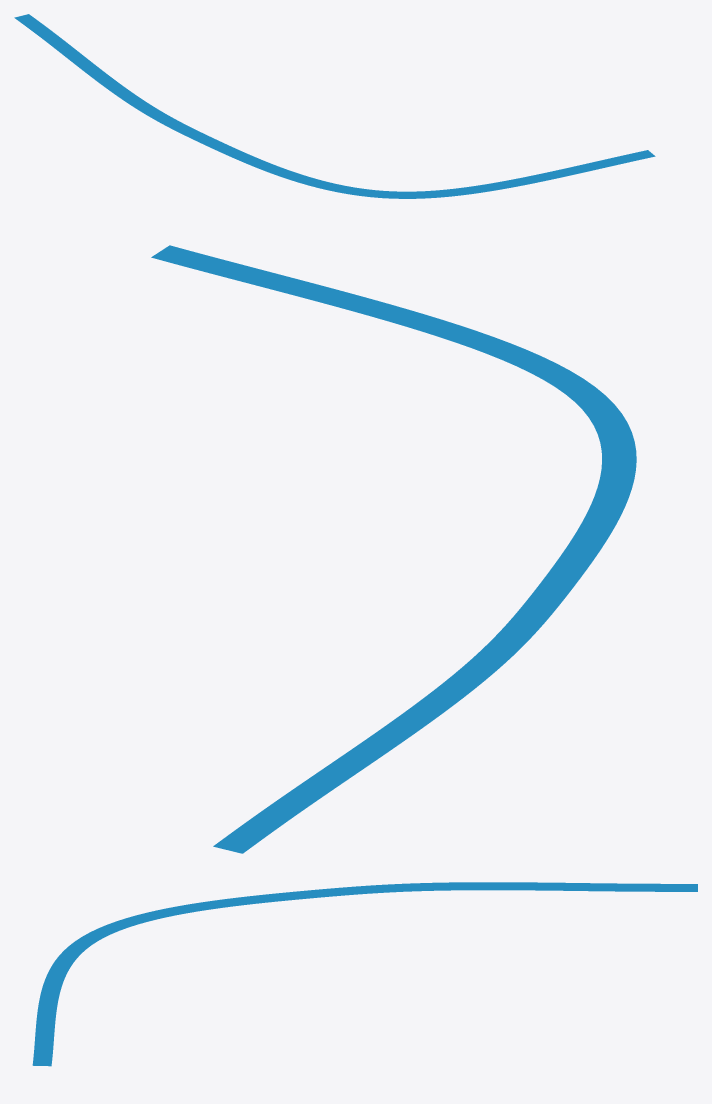
File: guide.glb
3 views of the same model, one above another, from view 1: azimuth 30°, elevation 25°; view 2: azimuth 150°, elevation 25°; view 3: azimuth 270°, elevation 25° (orthographic). The views are drawn at different scales.
Visible parts, largest first — view 1: static; view 2: static; view 3: static.
Part boxes in pixels (x1,y1,x2,y2): static: [14, 14, 655, 198]; static: [151, 245, 636, 853]; static: [32, 882, 697, 1066].
Size of the model in its own units: 8.28 by 0 by 11.53.
